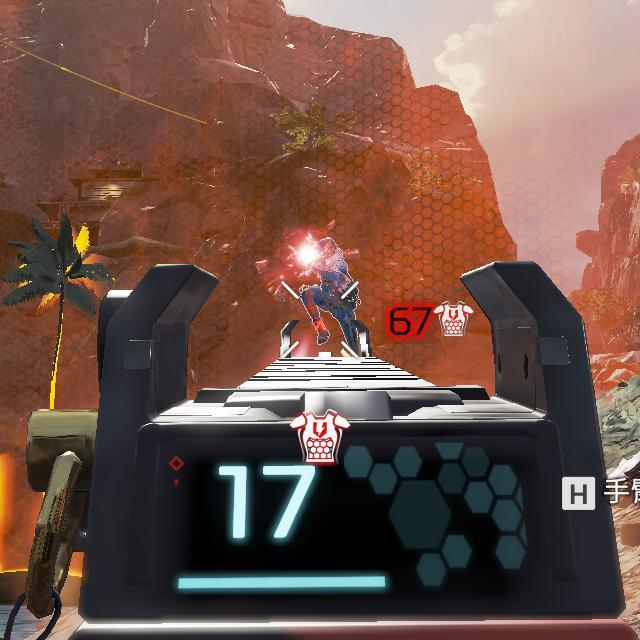avatar: (295, 235, 364, 356)
